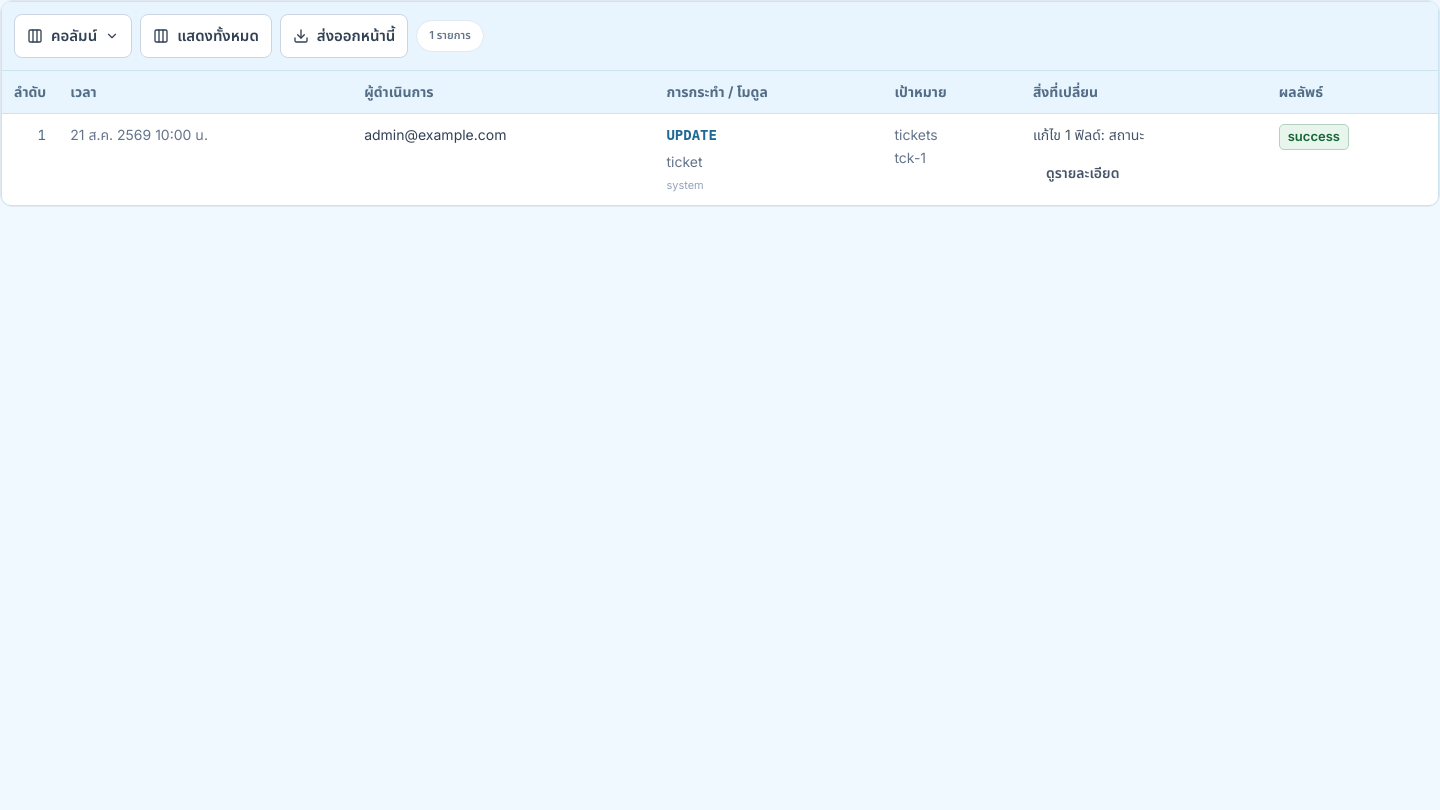
Test: AuditTable › กางดูแล้วเห็นทั้งค่าเดิมและค่าใหม่ ซึ่งเป็นคำถามหลักของผู้ตรวจสอบ
The image size is (1440, 810).
Click the button with aria-label "ดูรายละเอียด UPDATE ticket": coordinates (1083, 173) left=1033, top=151, right=1132, bottom=195
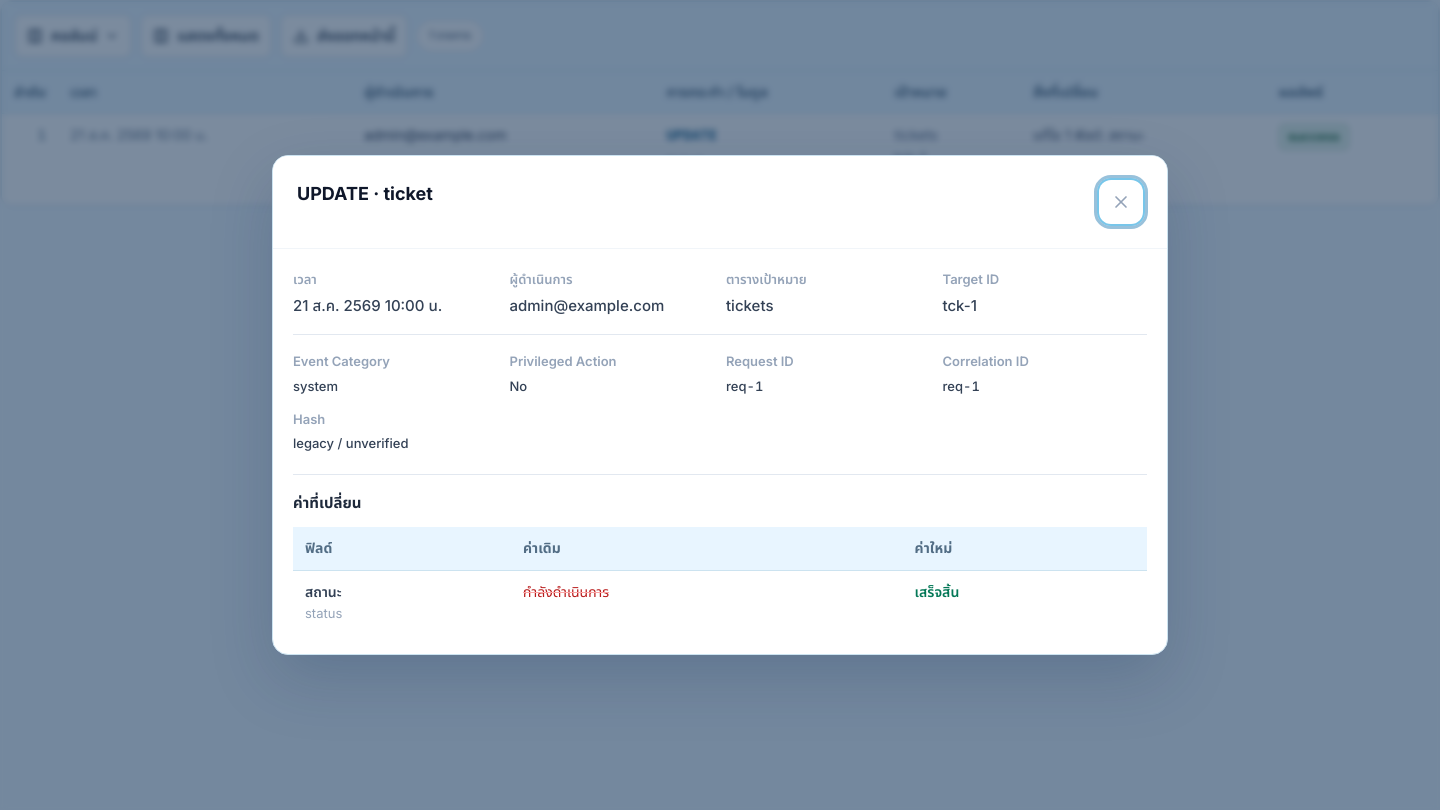
Now the text "กำลังดำเนินการ" is shown, box left=523, top=583, right=609, bottom=600
Now the text "เสร็จสิ้น" is shown, box left=915, top=583, right=959, bottom=600
Now the text "tck-1" is shown, box left=942, top=296, right=977, bottom=315
